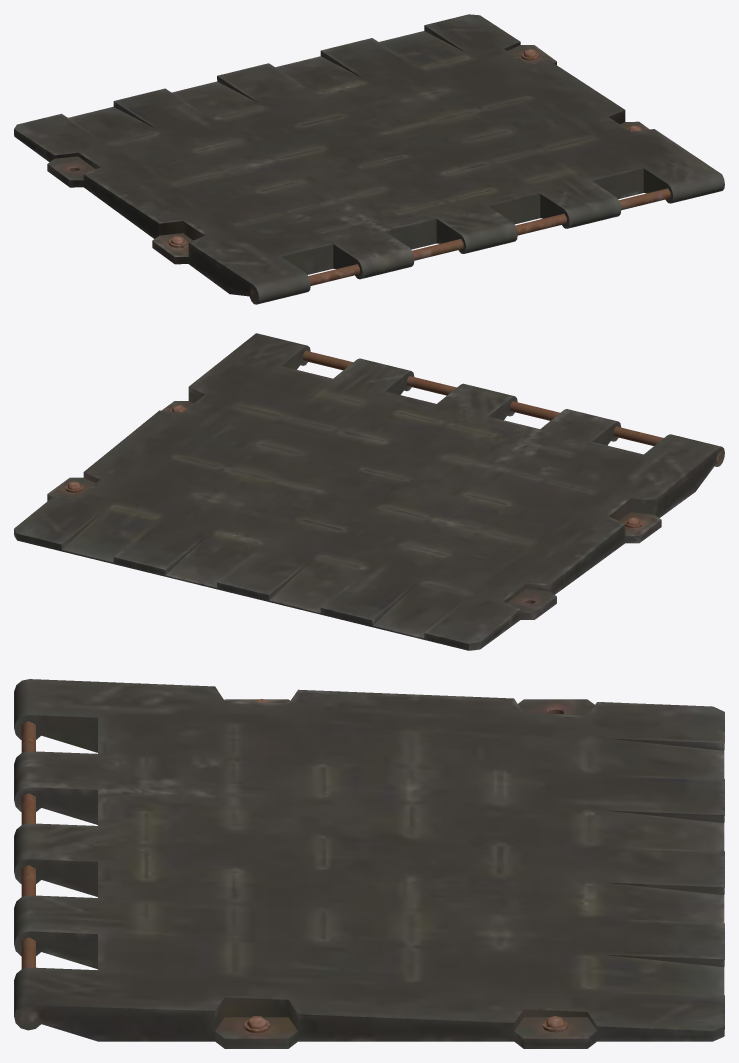
Rendered from ferry_ramp_flap_a.glb.
The picture shows the model from 3 angles, top to bottom: view 1: azimuth 30°, elevation 25°; view 2: azimuth 150°, elevation 25°; view 3: azimuth 270°, elevation 25°; orthographic projection. The views are drawn at different scales.
Parts seen in each view (by area): view 1: ferry_ramp_flap_a; view 2: ferry_ramp_flap_a; view 3: ferry_ramp_flap_a.
Boxes of the visible parts, box(x1,y1,x2,y2) form: ferry_ramp_flap_a: box(14, 14, 724, 304); ferry_ramp_flap_a: box(14, 333, 724, 650); ferry_ramp_flap_a: box(14, 679, 724, 1048).
Size of the model in its own units: 1.72 by 0.0898 by 1.52.
Materials: 1 (1 with a texture image).
